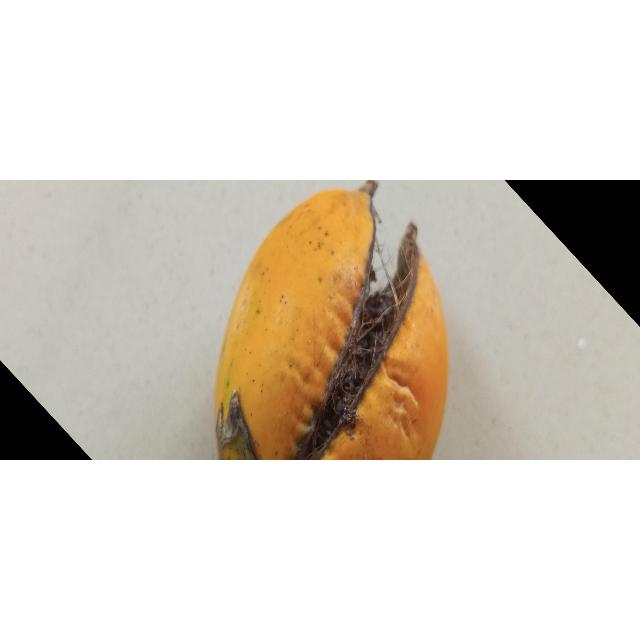damaged: (213, 184, 449, 461)
